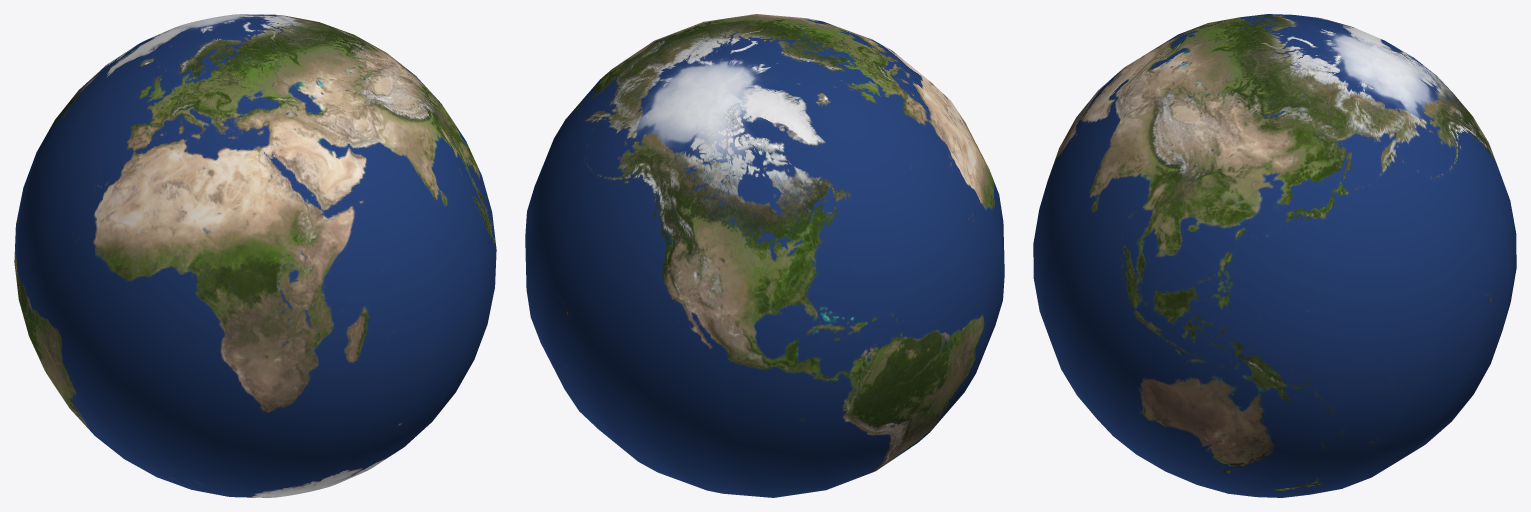
File: earth.obj
3 views of the same model, side by side, from view 1: azimuth 30°, elevation 25°; view 2: azimuth 150°, elevation 25°; view 3: azimuth 270°, elevation 25° (orthographic).
Visible parts, largest first — view 1: pSphere1; view 2: pSphere1; view 3: pSphere1.
Part boxes in pixels (x1=…): pSphere1: x1=14, y1=14, x2=496, y2=497; pSphere1: x1=525, y1=14, x2=1004, y2=497; pSphere1: x1=1033, y1=14, x2=1516, y2=497.
Bounding box in the file's own units: 3.76 × 3.75 × 3.75.
1 material, 1 textured.
